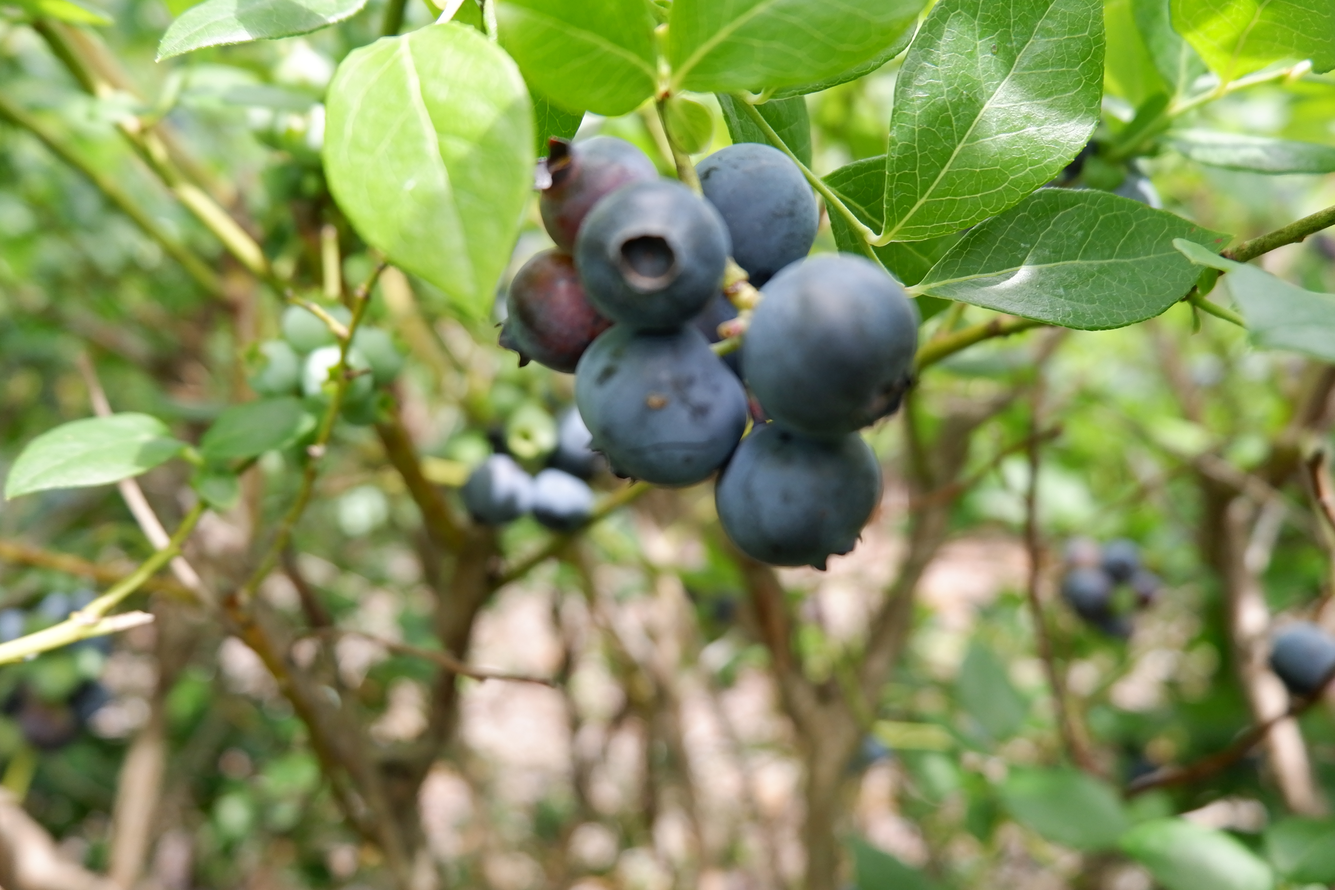Immature: (500, 252, 612, 370), (538, 140, 654, 246)
Mature: (743, 256, 916, 437), (576, 326, 744, 485), (719, 425, 878, 568), (578, 182, 726, 326), (696, 147, 819, 278), (684, 286, 744, 380)
